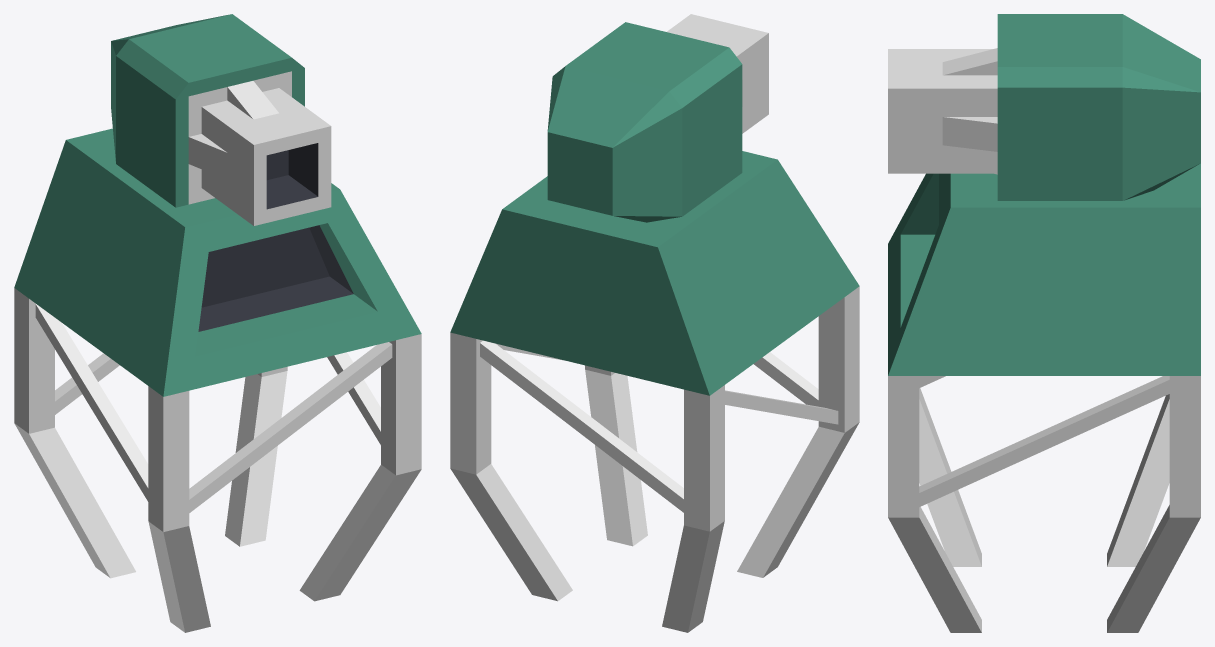
The model's file is walking_00_04.obj.
3 views of the same model, side by side, from view 1: azimuth 30°, elevation 25°; view 2: azimuth 150°, elevation 25°; view 3: azimuth 270°, elevation 25° (orthographic). The views are drawn at different scales.
Visible parts, largest first — view 1: mergedBlocks; view 2: mergedBlocks; view 3: mergedBlocks.
Boxes of the visible parts, x1,y1,x2,y2 form: mergedBlocks: (14, 14, 421, 632); mergedBlocks: (450, 14, 859, 632); mergedBlocks: (888, 14, 1200, 632).
Bounding box in the file's own units: 1 × 1.95 × 1.
